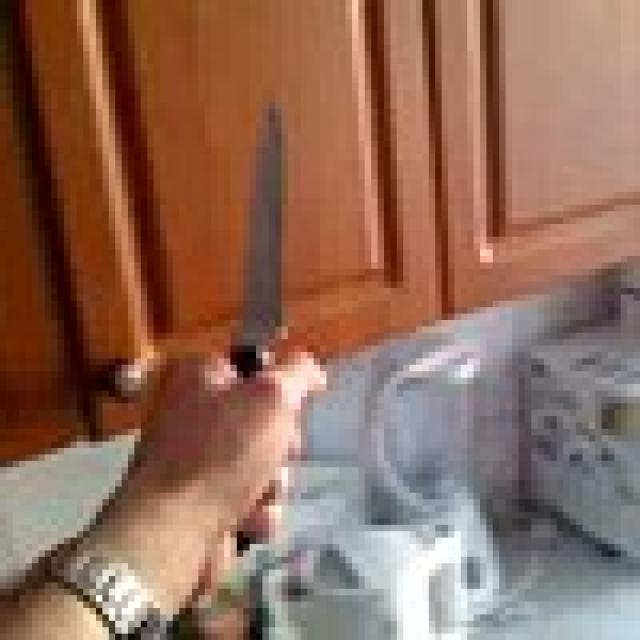Knife: (211, 102, 307, 384)
